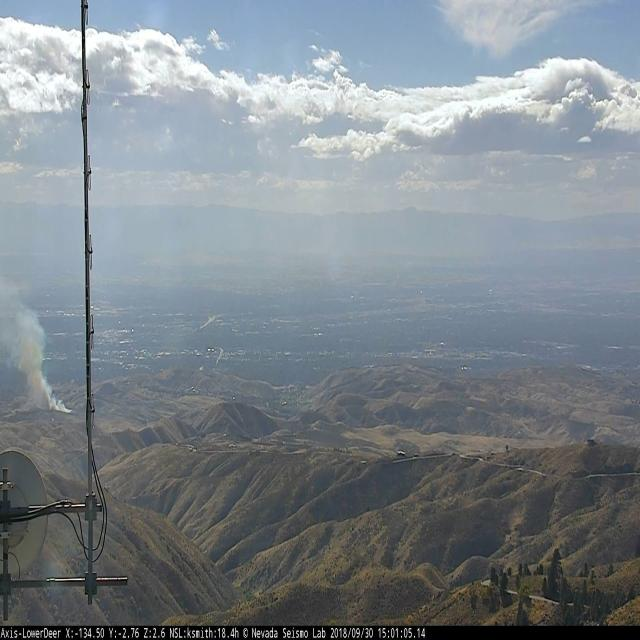smoke: (0, 289, 72, 413)
